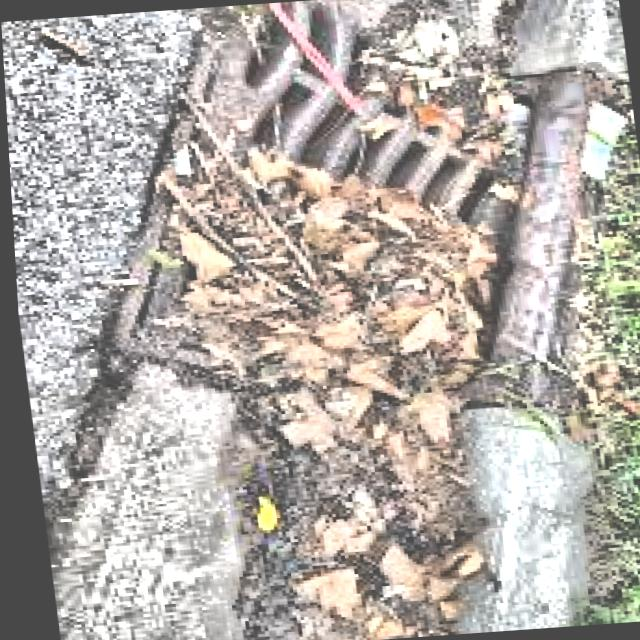Alligator Cracks: (166, 22, 504, 380)
